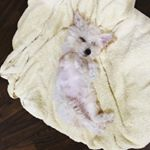puppy: (54, 8, 121, 141)
